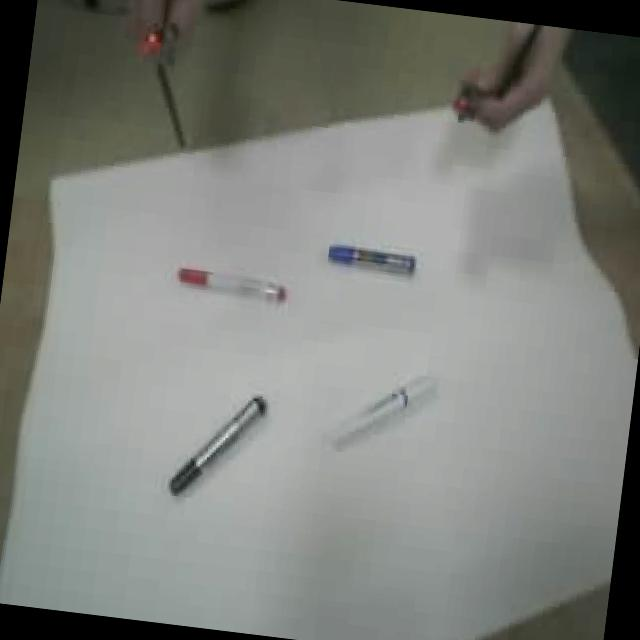board-marker: (169, 396, 266, 493), (332, 375, 435, 441), (177, 265, 286, 302), (328, 244, 414, 272)
